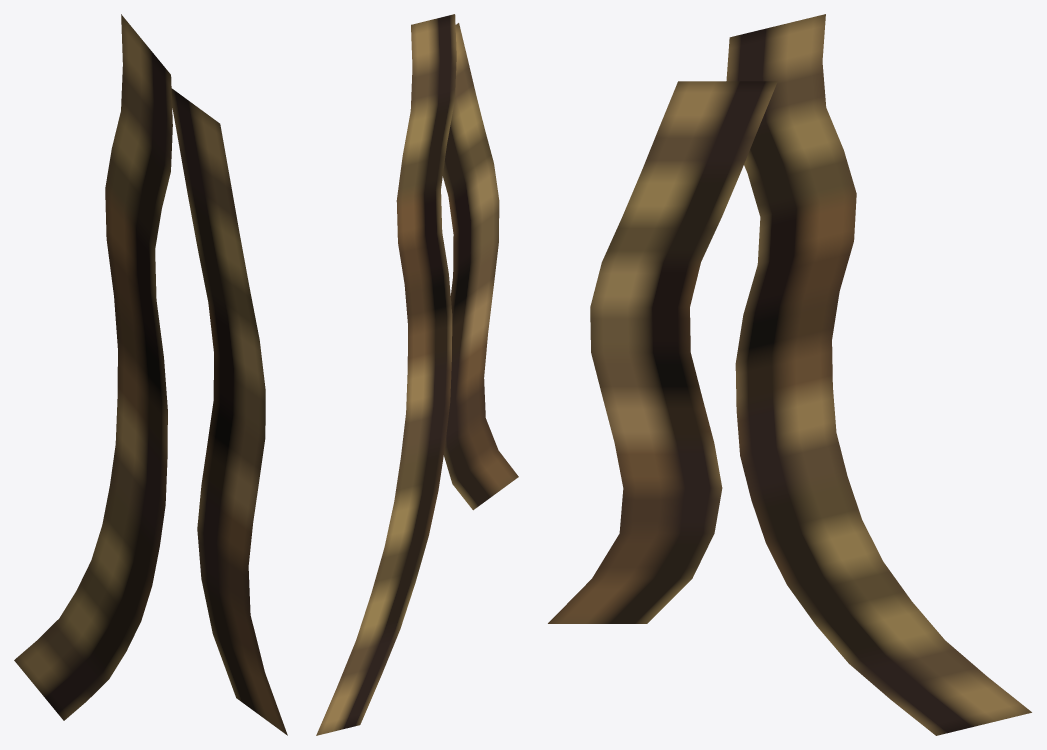
Rendered from ObjMD_Battlefield_Pillar_Rope.FBX.
The picture shows the model from 3 angles, left to right: view 1: azimuth 30°, elevation 25°; view 2: azimuth 150°, elevation 25°; view 3: azimuth 270°, elevation 25°; orthographic projection. The views are drawn at different scales.
Parts seen in each view (by area): view 1: ObjMD_Battlefield_Pillar_Rope; view 2: ObjMD_Battlefield_Pillar_Rope; view 3: ObjMD_Battlefield_Pillar_Rope.
Part boxes in pixels (x1,y1,x2,y2): ObjMD_Battlefield_Pillar_Rope: (14,14,287,735); ObjMD_Battlefield_Pillar_Rope: (316,14,518,735); ObjMD_Battlefield_Pillar_Rope: (548,14,1031,735).
Size of the model in its own units: 3.12 by 99.83 by 60.78.
